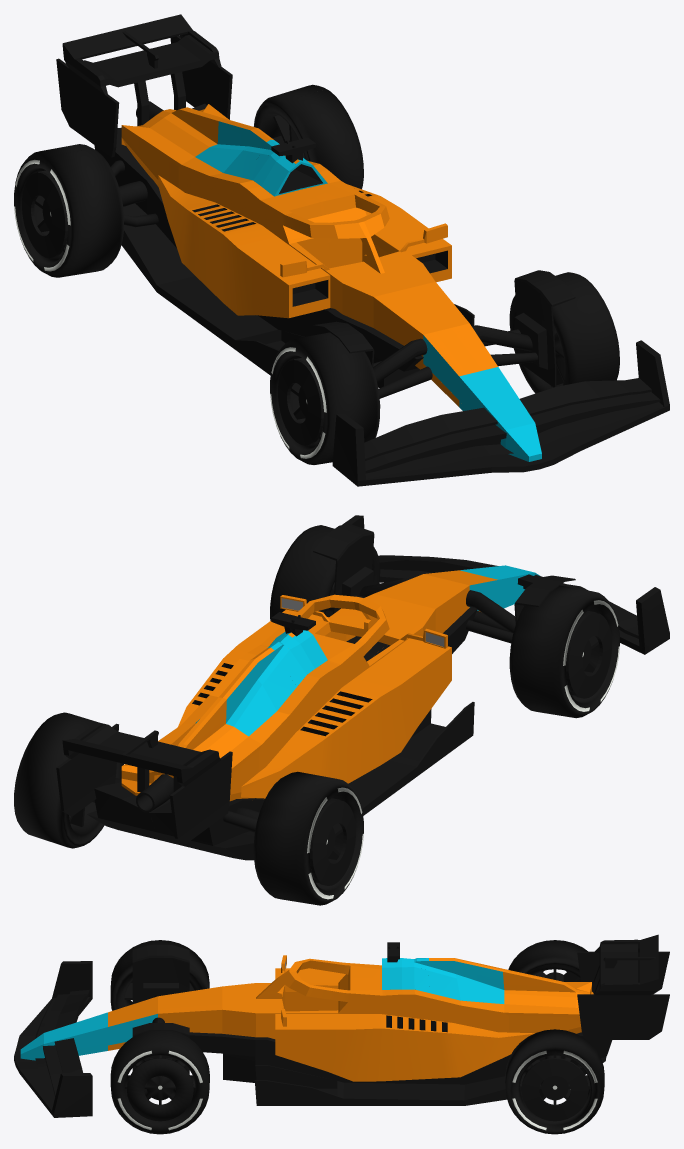
File: mclaren_car.glb
The picture shows the model from 3 angles, top to bottom: view 1: azimuth 30°, elevation 25°; view 2: azimuth 150°, elevation 25°; view 3: azimuth 270°, elevation 25°; orthographic projection. The views are drawn at different scales.
Parts seen in each view (by area): view 1: Base Unsubsurfed, Front Wing Base, Sidepod, Rear Wing, Bottom, RR_Tire, FR_Tire, FL_Tire, RL_Tire, L_Inside Cover, FRod, RRod (+1 smaller); view 2: Base Unsubsurfed, Sidepod, RR_Tire, FR_Tire, Rear Wing, Bottom, RL_Tire, Front Wing Base, FL_Tire, L_Inside Cover, FRod, R_Inside Cover (+3 smaller); view 3: Base Unsubsurfed, Sidepod, Bottom, RL_Tire, FL_Tire, Rear Wing, Front Wing Base, R_Inside Cover, RR_Tire, FR_Tire, L_Inside Cover.
Boxes of the visible parts, left/top/right/bottom form: Base Unsubsurfed: left=121, top=104, right=541, bottom=461; Front Wing Base: left=332, top=340, right=669, bottom=486; Sidepod: left=158, top=175, right=451, bottom=318; Rear Wing: left=56, top=14, right=232, bottom=157; Bottom: left=94, top=103, right=474, bottom=387; RR_Tire: left=14, top=144, right=124, bottom=277; FR_Tire: left=270, top=332, right=380, bottom=464; FL_Tire: left=509, top=272, right=619, bottom=393; RL_Tire: left=253, top=84, right=363, bottom=189; L_Inside Cover: left=514, top=270, right=575, bottom=387; FRod: left=373, top=325, right=538, bottom=398; RRod: left=110, top=160, right=158, bottom=227; Base Unsubsurfed: left=121, top=565, right=539, bottom=801; Sidepod: left=178, top=609, right=451, bottom=798; RR_Tire: left=253, top=771, right=363, bottom=905; FR_Tire: left=509, top=585, right=619, bottom=718; Rear Wing: left=56, top=722, right=232, bottom=843; Bottom: left=87, top=607, right=477, bottom=860; RL_Tire: left=14, top=712, right=123, bottom=848; Front Wing Base: left=342, top=515, right=669, bottom=654; FL_Tire: left=270, top=525, right=380, bottom=620; L_Inside Cover: left=313, top=524, right=374, bottom=614; FRod: left=353, top=576, right=515, bottom=643; R_Inside Cover: left=514, top=575, right=575, bottom=624; Base Unsubsurfed: left=20, top=955, right=593, bottom=1060; Sidepod: left=275, top=968, right=534, bottom=1081; Bottom: left=189, top=1032, right=612, bottom=1105; RL_Tire: left=505, top=1029, right=604, bottom=1134; FL_Tire: left=110, top=1031, right=209, bottom=1134; Rear Wing: left=577, top=934, right=669, bottom=1039; Front Wing Base: left=14, top=961, right=92, bottom=1117; R_Inside Cover: left=132, top=945, right=189, bottom=1003; RR_Tire: left=508, top=940, right=587, bottom=981; FR_Tire: left=110, top=940, right=209, bottom=1010; L_Inside Cover: left=132, top=1023, right=189, bottom=1089.
Size of the model in its own units: 5.15 by 2.77 by 12.15.
